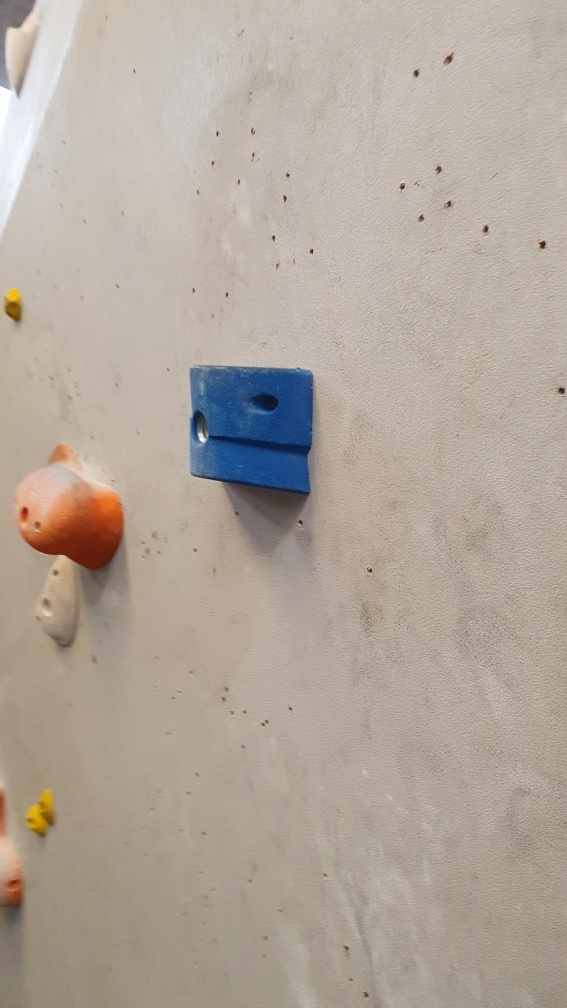Pinch: (183, 356, 315, 500)
Sloper: (19, 464, 133, 569)
